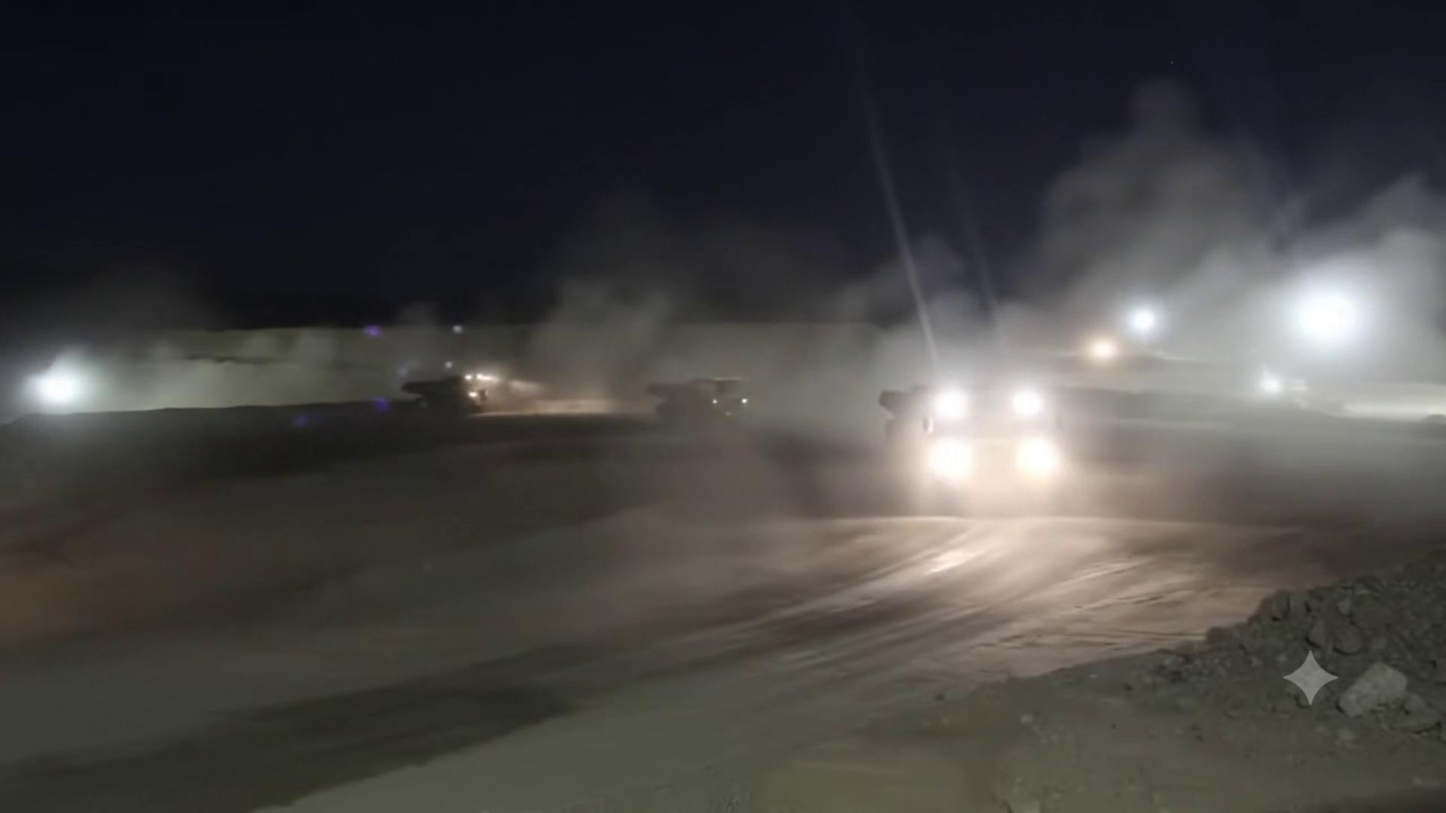CAEX: (879, 368, 1073, 508), (646, 378, 748, 428), (403, 373, 496, 415), (404, 375, 487, 416)
